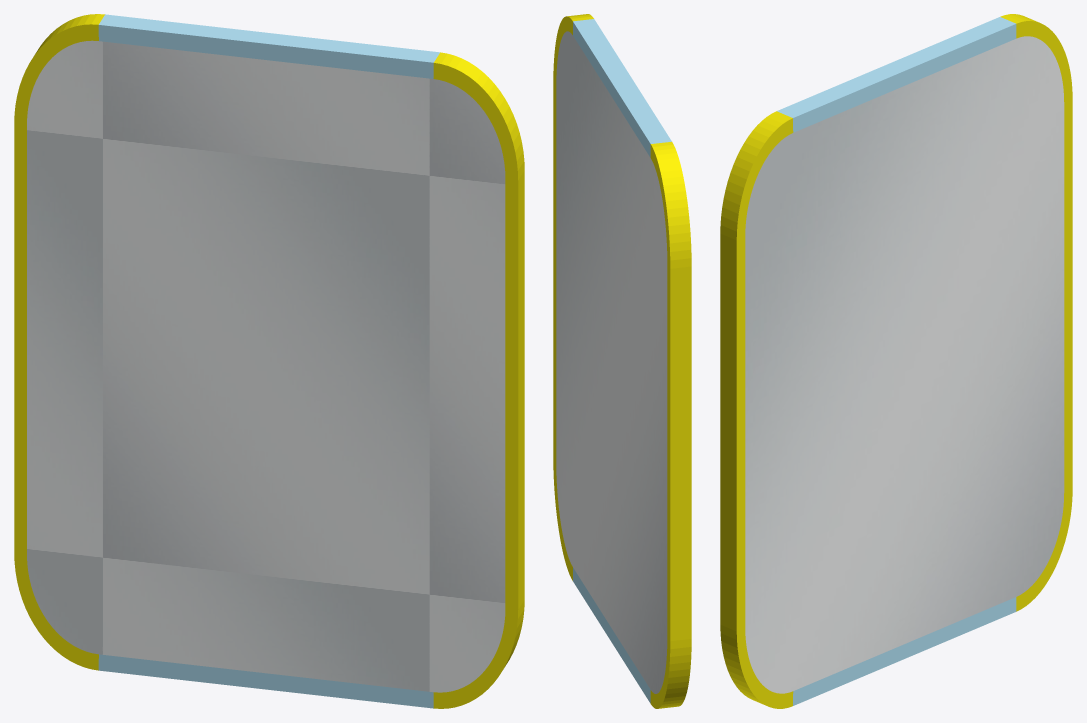
File: switchY1.obj
The picture shows the model from 3 angles, left to right: view 1: azimuth 30°, elevation 25°; view 2: azimuth 150°, elevation 25°; view 3: azimuth 270°, elevation 25°; orthographic projection. The views are drawn at different scales.
Parts seen in each view (by area): view 1: switchY1_Куб.202; view 2: switchY1_Куб.202; view 3: switchY1_Куб.202.
Boxes of the visible parts, <box> form: switchY1_Куб.202: <box>14,14,524,708</box>; switchY1_Куб.202: <box>553,14,691,708</box>; switchY1_Куб.202: <box>720,14,1072,708</box>.
Bounding box in the file's own units: 0.1071 × 0.1973 × 0.1071.
Materials: 3 (1 with a texture image).
